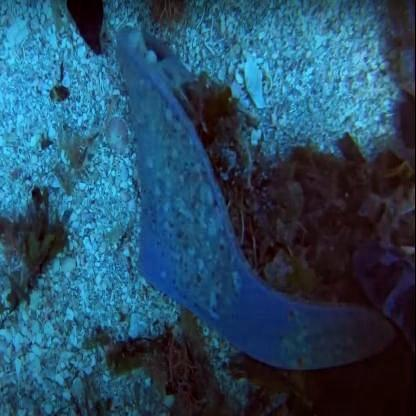misc: (110, 69, 250, 315)
